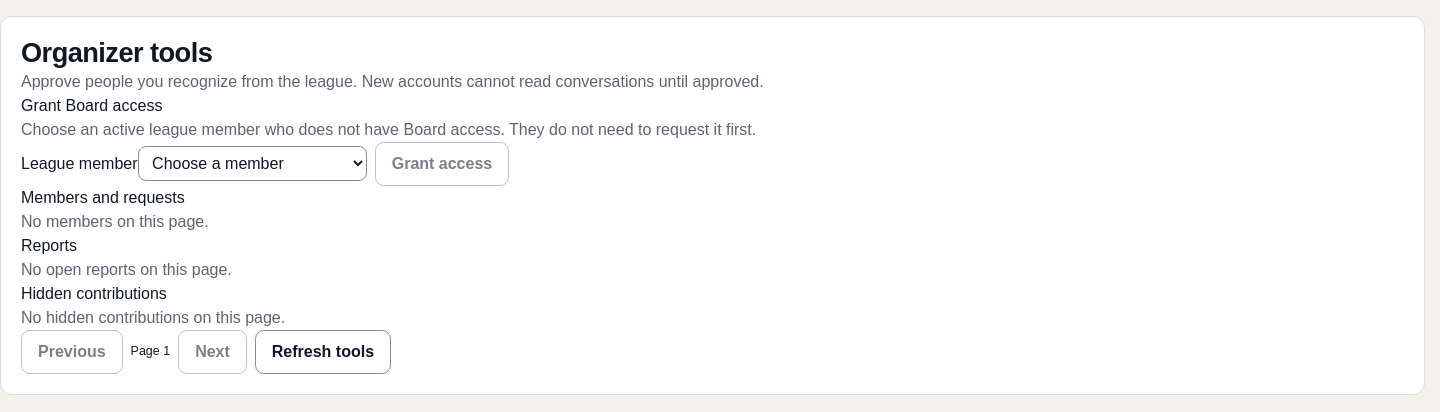
does not claim success after a rejected grant
Select "New member · No request" in the dropdown at (252, 164), box left=138, top=146, right=367, bottom=181
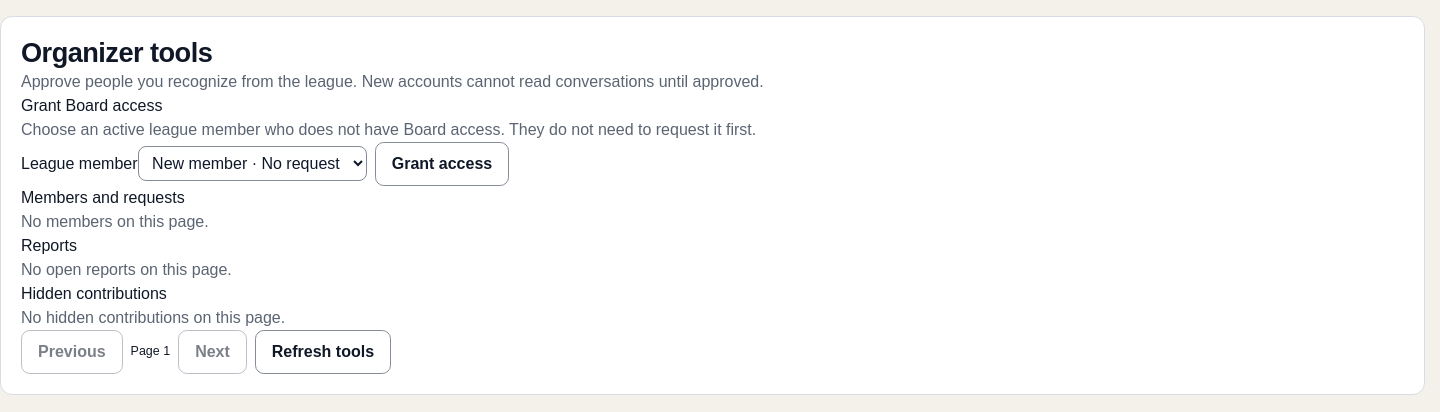
Click the button "Grant access" at (442, 164), box left=375, top=142, right=509, bottom=186
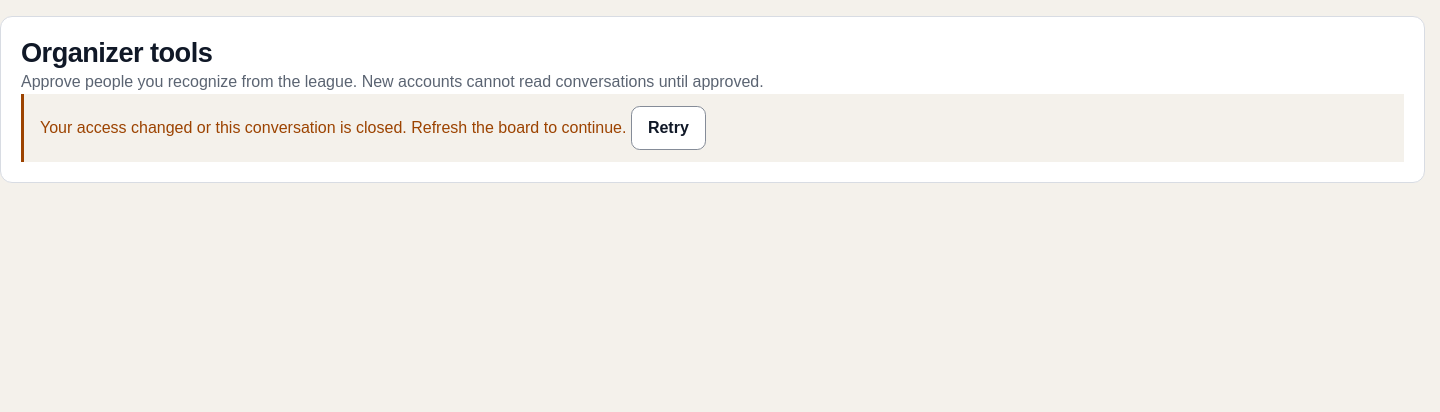
Expected: the option "New member · No request" is not shown
Now the message shows "access changed", box left=40, top=119, right=626, bottom=136
